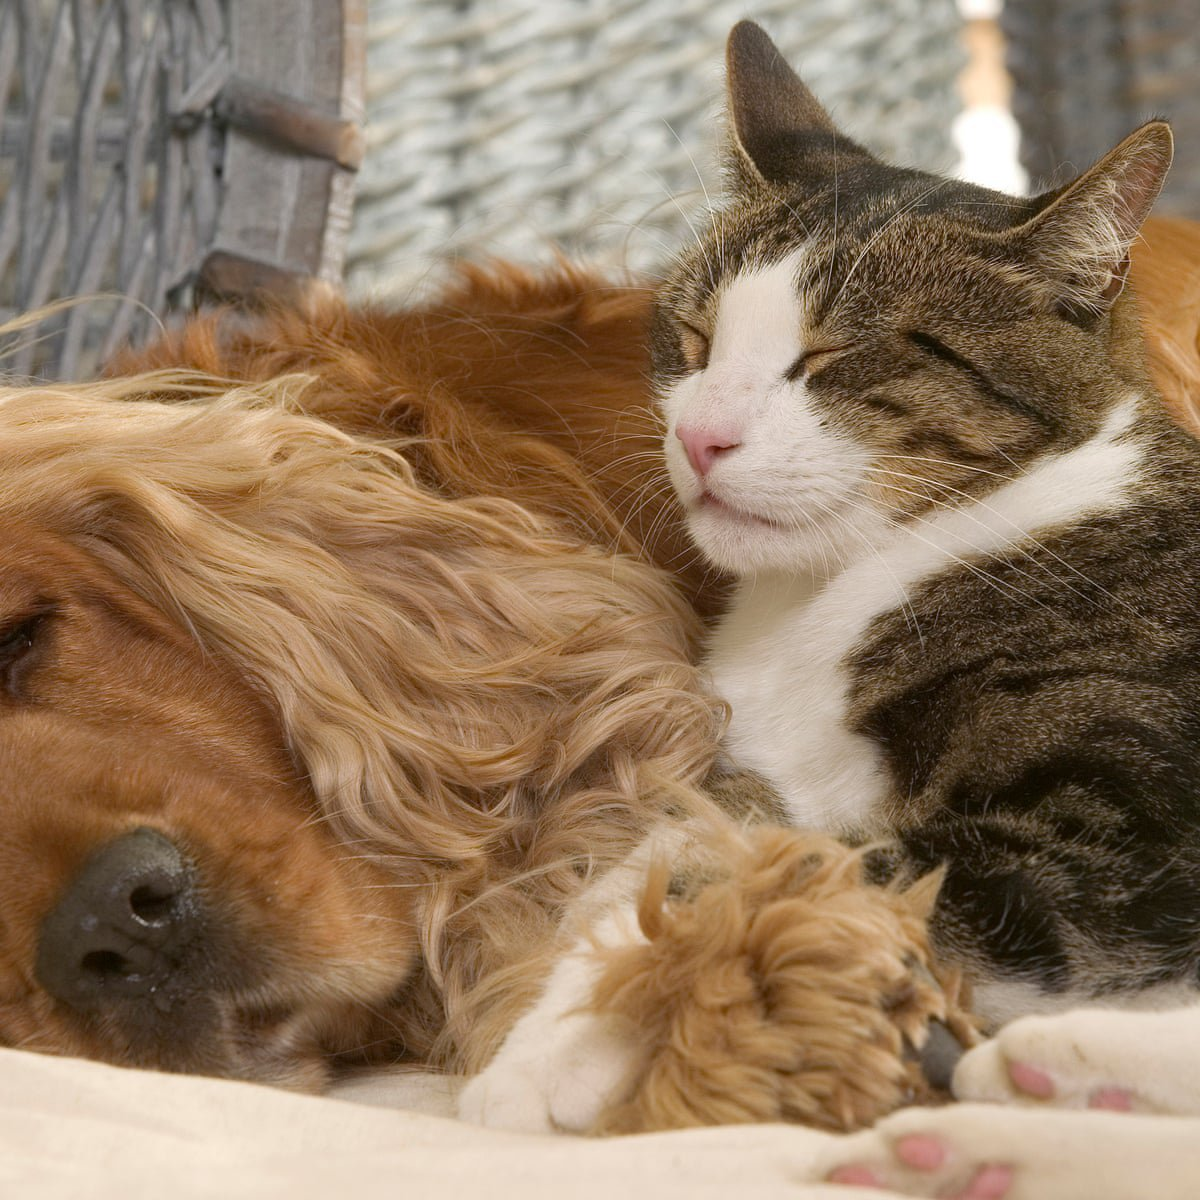cat: (619, 14, 1200, 1027)
dog: (15, 257, 788, 1127)
